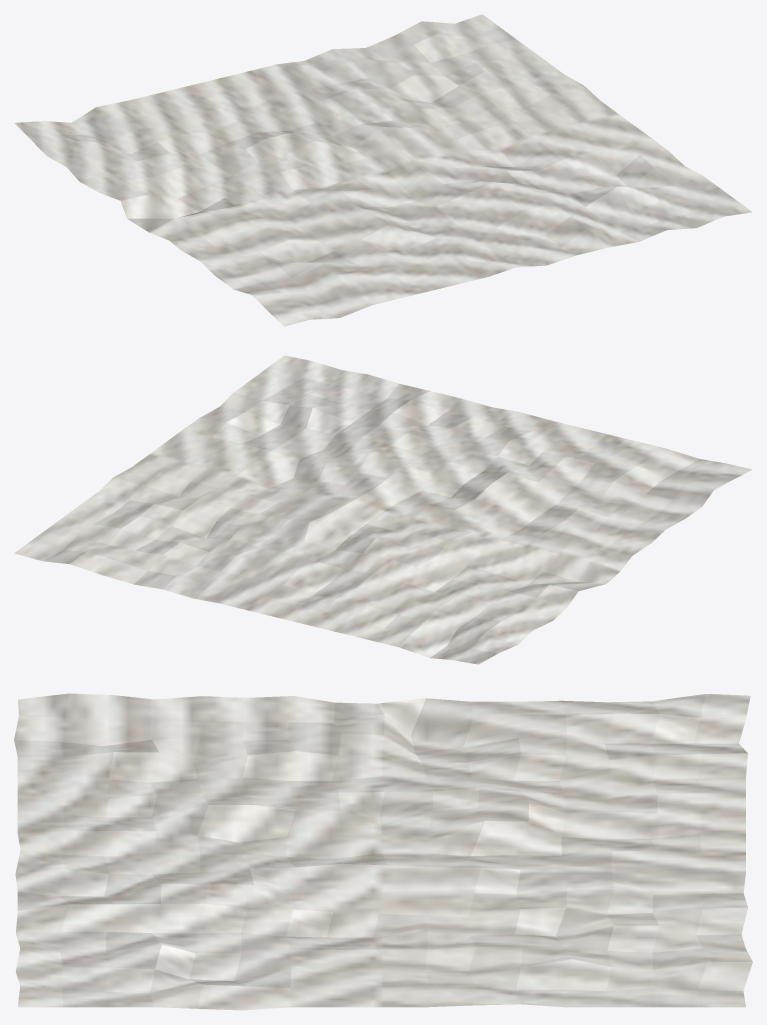
File: ZenInlayGD.glb
3 views of the same model, one above another, from view 1: azimuth 30°, elevation 25°; view 2: azimuth 150°, elevation 25°; view 3: azimuth 270°, elevation 25° (orthographic). The views are drawn at different scales.
Parts seen in each view (by area): view 1: zen.001; view 2: zen.001; view 3: zen.001.
Part boxes in pixels (x1,y1,x2,y2): zen.001: (14, 14, 752, 326); zen.001: (14, 355, 752, 664); zen.001: (14, 693, 752, 1010).
Size of the model in its own units: 8.66 by 0.3743 by 8.66.
1 material, 1 textured.
